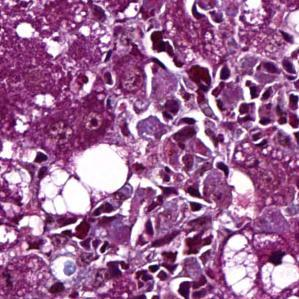ballooning: (217, 230, 299, 299), (35, 166, 95, 218)
